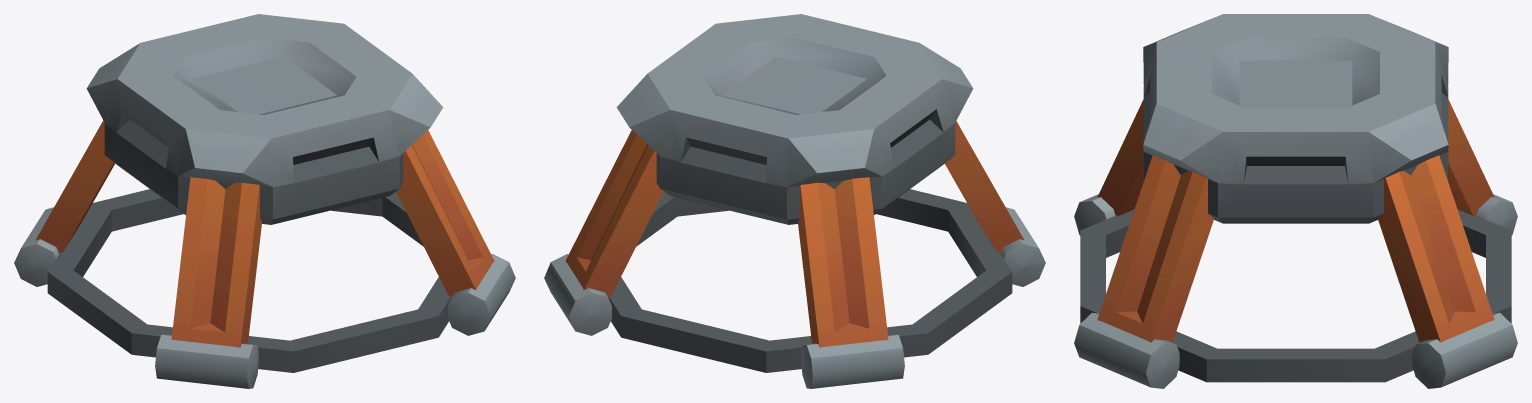
File: structure_low.glb
3 views of the same model, side by side, from view 1: azimuth 30°, elevation 25°; view 2: azimuth 150°, elevation 25°; view 3: azimuth 270°, elevation 25° (orthographic). The views are drawn at different scales.
Visible parts, largest first — view 1: structure_low; view 2: structure_low; view 3: structure_low.
Boxes of the visible parts, x1=… form: structure_low: x1=14, y1=14, x2=515, y2=388; structure_low: x1=544, y1=14, x2=1045, y2=388; structure_low: x1=1074, y1=14, x2=1517, y2=388.
Size of the model in its own units: 1.75 by 1 by 1.75.
1 material, 1 textured.
